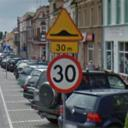speed_limit_30: (43, 53, 87, 94)
